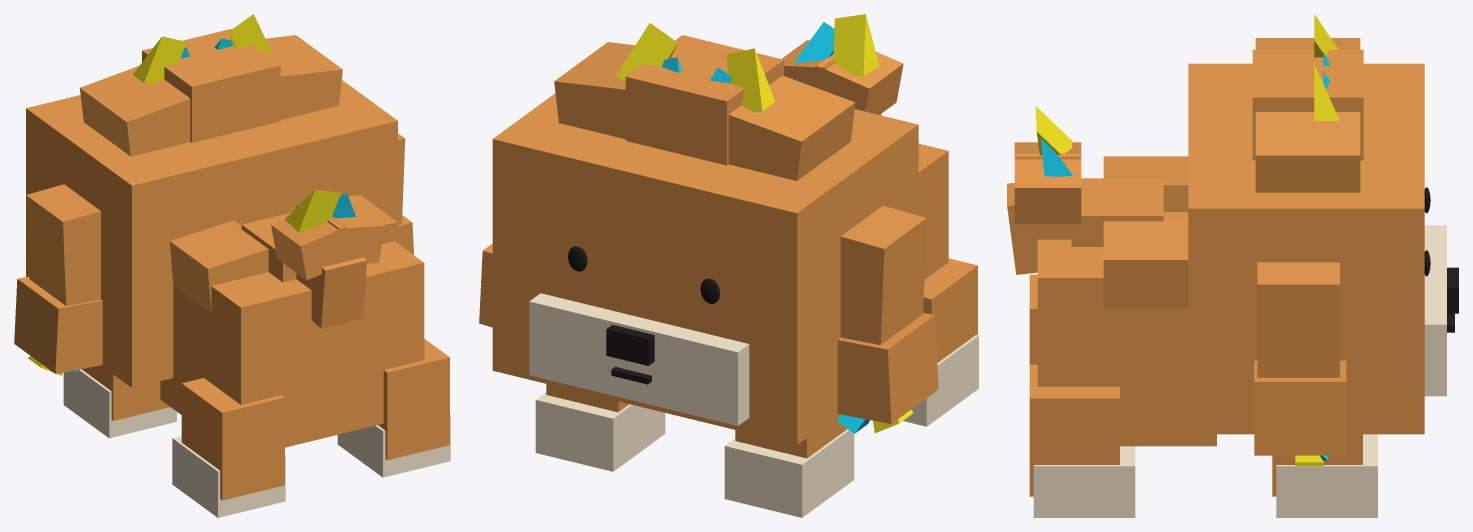
File: Poodle_Block.gltf
The picture shows the model from 3 angles, left to right: view 1: azimuth 30°, elevation 25°; view 2: azimuth 150°, elevation 25°; view 3: azimuth 270°, elevation 25°; orthographic projection. The views are drawn at different scales.
Visible parts, largest first — view 1: BigHead, ShortTorso, LegBL_Leg, HeadTuftC, ClippedEarL, HeadTuftL, LegBR_Leg, EarTuftL, BodyTuftL, HeadTuftR, LegBL_Paw, ShortTail (+11 smaller); view 2: BigHead, CreamMuzzle, HeadTuftC, ClippedEarL, HeadTuftL, EarTuftL, LegFL_Paw, LegFR_Paw, HeadTuftR, LegBL_Leg, ShortTorso, TailTuftL (+10 smaller); view 3: BigHead, ShortTorso, ClippedEarR, HeadTuftR, BodyTuftR, LegBR_Leg, EarTuftR, HeadTuftC, LegFR_Paw, LegBR_Paw, BodyTuftC, TailTuftR (+12 smaller).
Boxes of the visible parts, left/top/right/bottom form: BigHead: left=26, top=80, right=397, bottom=387; ShortTorso: left=160, top=241, right=424, bottom=447; LegBL_Leg: left=181, top=378, right=284, bottom=500; HeadTuftC: left=142, top=29, right=280, bottom=142; ClippedEarL: left=26, top=184, right=100, bottom=305; HeadTuftL: left=80, top=66, right=190, bottom=156; LegBR_Leg: left=378, top=339, right=449, bottom=460; EarTuftL: left=14, top=276, right=102, bottom=373; BodyTuftL: left=170, top=220, right=268, bottom=312; HeadTuftR: left=266, top=35, right=342, bottom=119; LegBL_Paw: left=172, top=436, right=285, bottom=517; ShortTail: left=296, top=257, right=367, bottom=328; BigHead: left=492, top=93, right=918, bottom=444; CreamMuzzle: left=529, top=293, right=749, bottom=425; HeadTuftC: left=625, top=35, right=783, bottom=165; ClippedEarL: left=840, top=205, right=926, bottom=344; HeadTuftL: left=728, top=75, right=855, bottom=180; EarTuftL: left=837, top=312, right=938, bottom=423; LegFL_Paw: left=724, top=429, right=854, bottom=517; LegFR_Paw: left=535, top=392, right=665, bottom=471; HeadTuftR: left=554, top=42, right=634, bottom=139; LegBL_Leg: left=923, top=258, right=977, bottom=362; ShortTorso: left=918, top=143, right=948, bottom=279; TailTuftL: left=813, top=52, right=903, bottom=114; BigHead: left=1188, top=63, right=1424, bottom=434; ShortTorso: left=1037, top=178, right=1216, bottom=446; ClippedEarR: left=1257, top=262, right=1339, bottom=377; HeadTuftR: left=1255, top=112, right=1360, bottom=192; BodyTuftR: left=1103, top=219, right=1188, bottom=308; LegBR_Leg: left=1029, top=364, right=1119, bottom=496; EarTuftR: left=1254, top=360, right=1346, bottom=455; HeadTuftC: left=1252, top=49, right=1363, bottom=160; LegFR_Paw: left=1276, top=434, right=1377, bottom=517; LegBR_Paw: left=1033, top=446, right=1135, bottom=517; BodyTuftC: left=1071, top=178, right=1163, bottom=246; TailTuftR: left=1014, top=153, right=1081, bottom=224.
Size of the model in its own units: 2.92 by 2.89 by 2.85.
